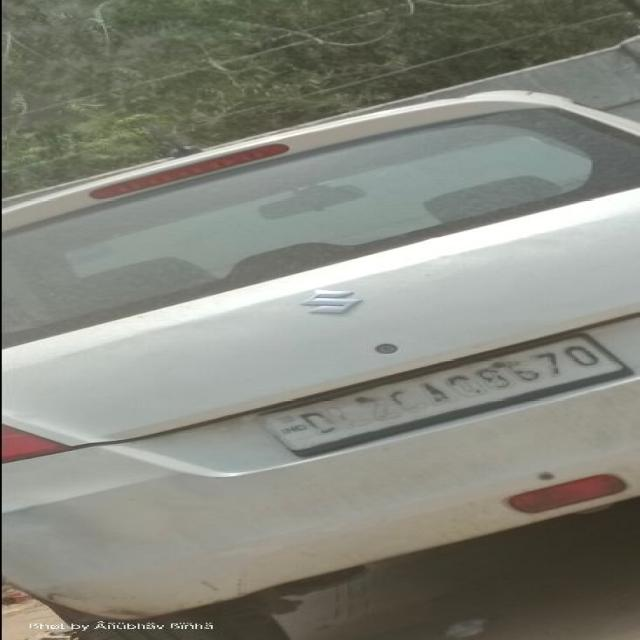license_plate: (255, 328, 631, 456)
